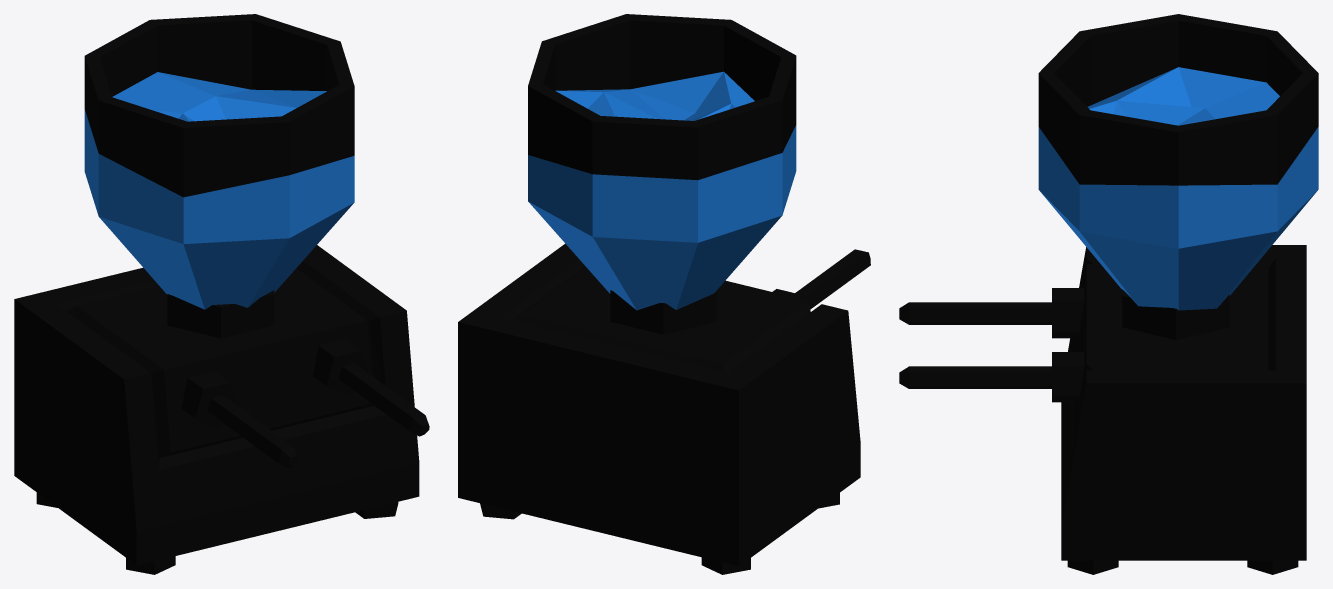
Rendered from SM_filling_dispenser.fbx.
The picture shows the model from 3 angles, left to right: view 1: azimuth 30°, elevation 25°; view 2: azimuth 150°, elevation 25°; view 3: azimuth 270°, elevation 25°; orthographic projection.
Visible parts, largest first — view 1: filling_dispenser; view 2: filling_dispenser; view 3: filling_dispenser.
Part boxes in pixels (box(x1,y1,x2,y2)): filling_dispenser: box(14, 14, 429, 574); filling_dispenser: box(458, 14, 870, 574); filling_dispenser: box(899, 14, 1318, 574).
Size of the model in its own units: 35.03 by 51.43 by 44.9.
